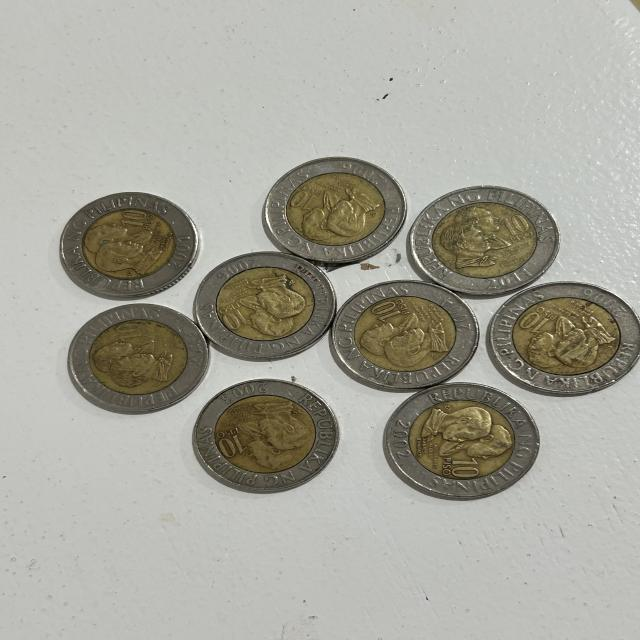10_Old_Front: (436, 449, 491, 486), (509, 296, 557, 336), (214, 420, 251, 463)
